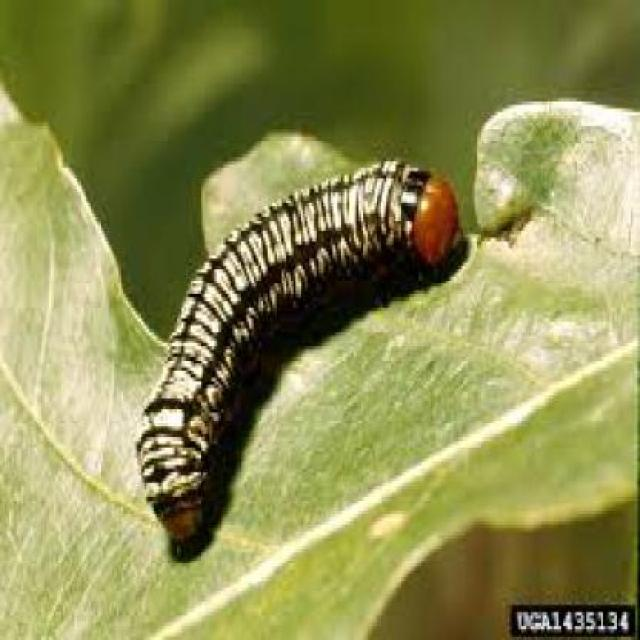Plaga: (124, 134, 472, 585)
